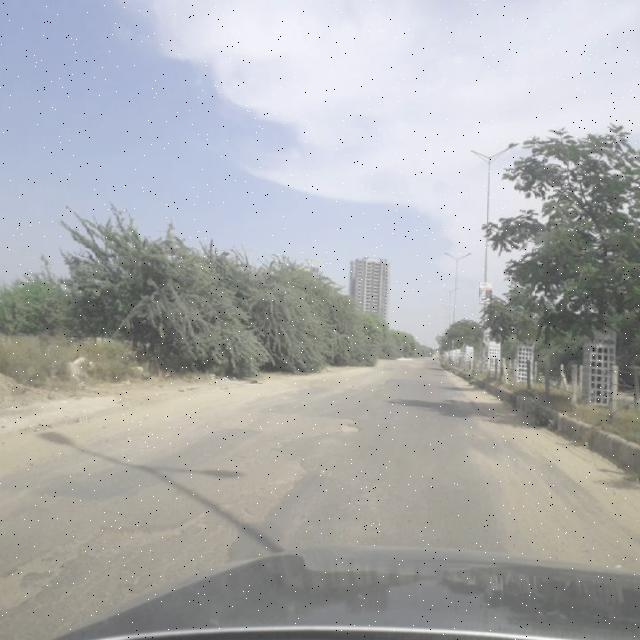D20: (12, 457, 303, 624)
D40: (13, 458, 305, 626), (0, 519, 84, 605), (334, 415, 372, 441)
